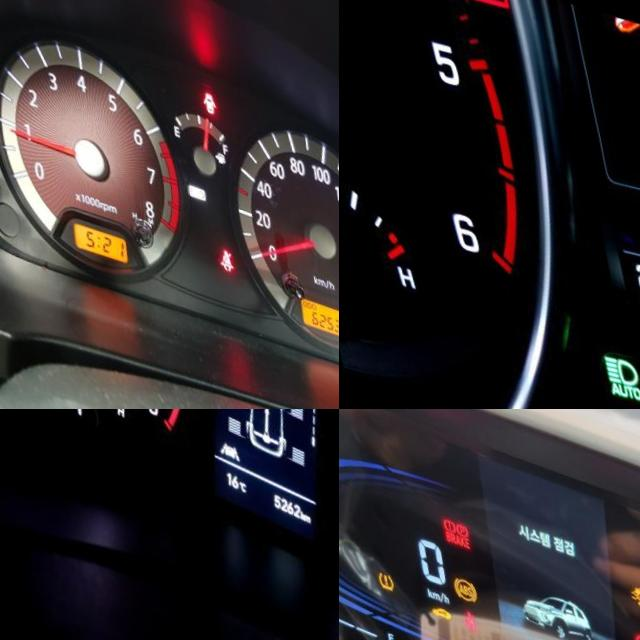Doors: (190, 71, 208, 97)
